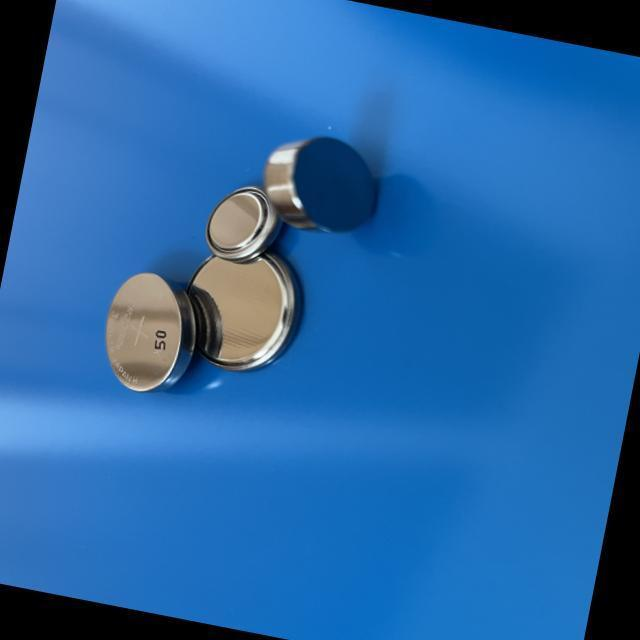COIN: (170, 234, 316, 380), (253, 116, 392, 248), (90, 264, 210, 402), (198, 170, 306, 272)
